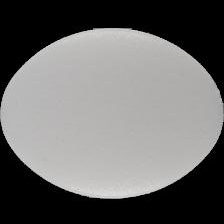70786-0137: (0, 0, 224, 224)
